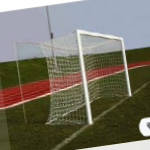goals: (40, 27, 133, 128)
